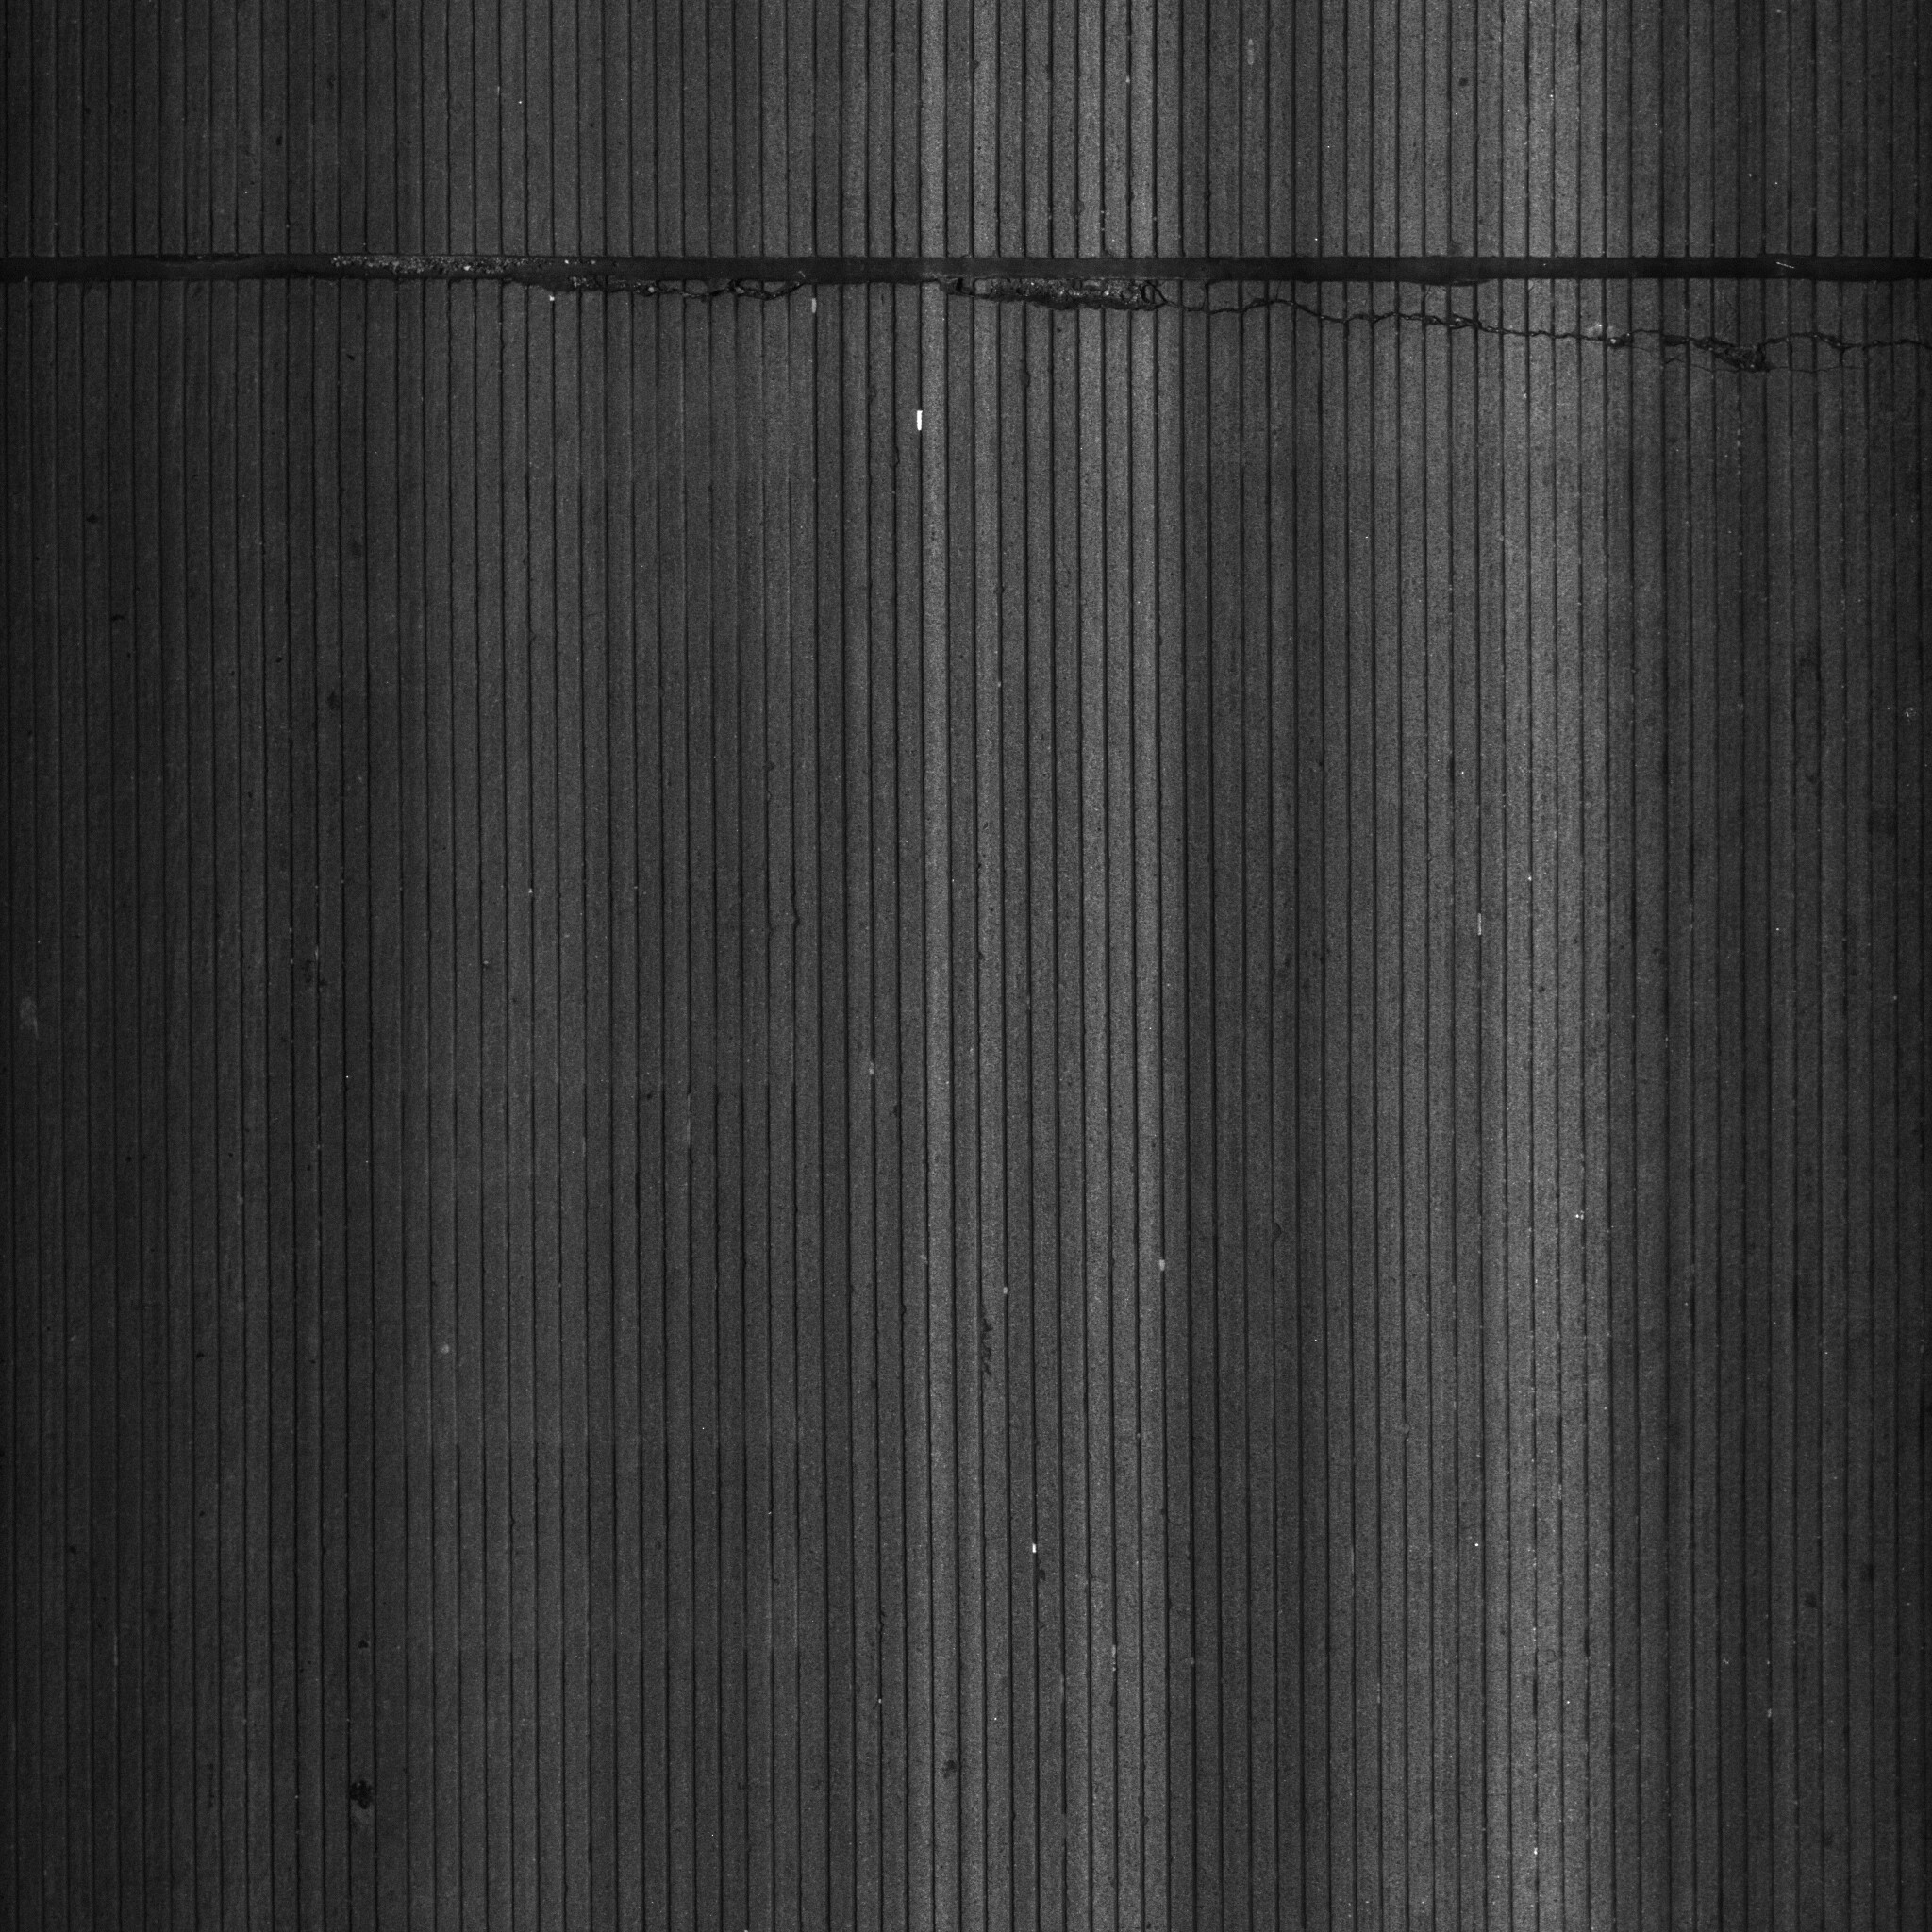transverse: (490, 267, 1930, 403)
